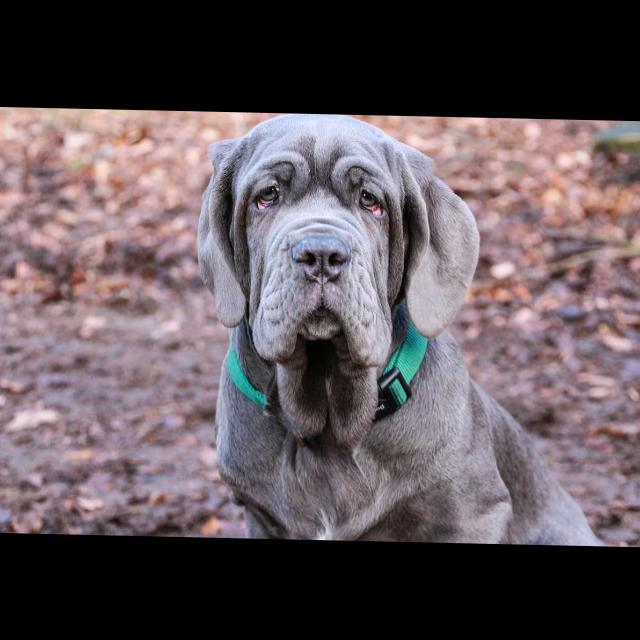mastino_napoletano: (197, 112, 611, 544)
